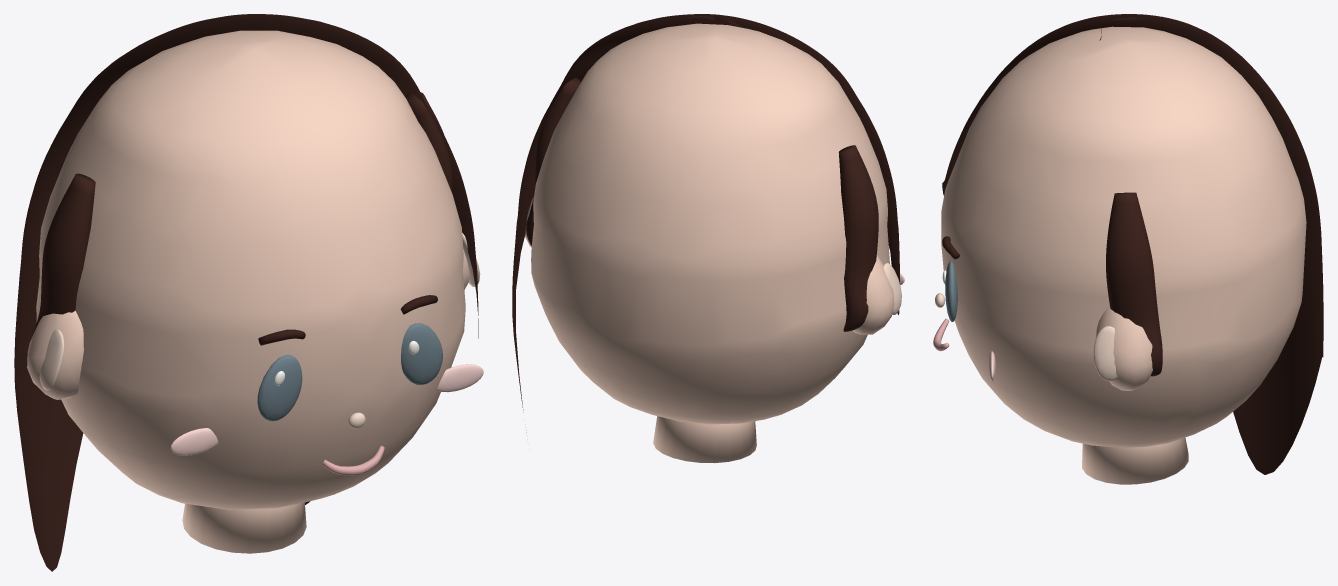
The model's file is kaohsiung-council-06-845d8f64-head.glb.
3 renders of one model, left to right at view 1: azimuth 30°, elevation 25°; view 2: azimuth 150°, elevation 25°; view 3: azimuth 270°, elevation 25°, orthographic. The views are drawn at different scales.
Visible parts, largest first — view 1: Skin, Hair, Eye, Blush, Nose, Brow, Mouth; view 2: Skin, Hair; view 3: Skin, Hair, Nose, Eye.
Boxes of the visible parts, x1,y1,x2,y2 form: Skin: (27, 30, 470, 553); Hair: (14, 14, 478, 571); Eye: (257, 323, 442, 421); Blush: (170, 364, 483, 455); Nose: (39, 233, 480, 428); Brow: (258, 295, 437, 345); Mouth: (322, 445, 384, 475); Skin: (525, 23, 894, 463); Hair: (512, 14, 899, 432); Skin: (941, 26, 1306, 484); Hair: (943, 14, 1323, 474); Nose: (935, 293, 1117, 381); Eye: (945, 260, 957, 321).
Bounding box in the file's own units: 1.1 × 1.38 × 0.9892.
